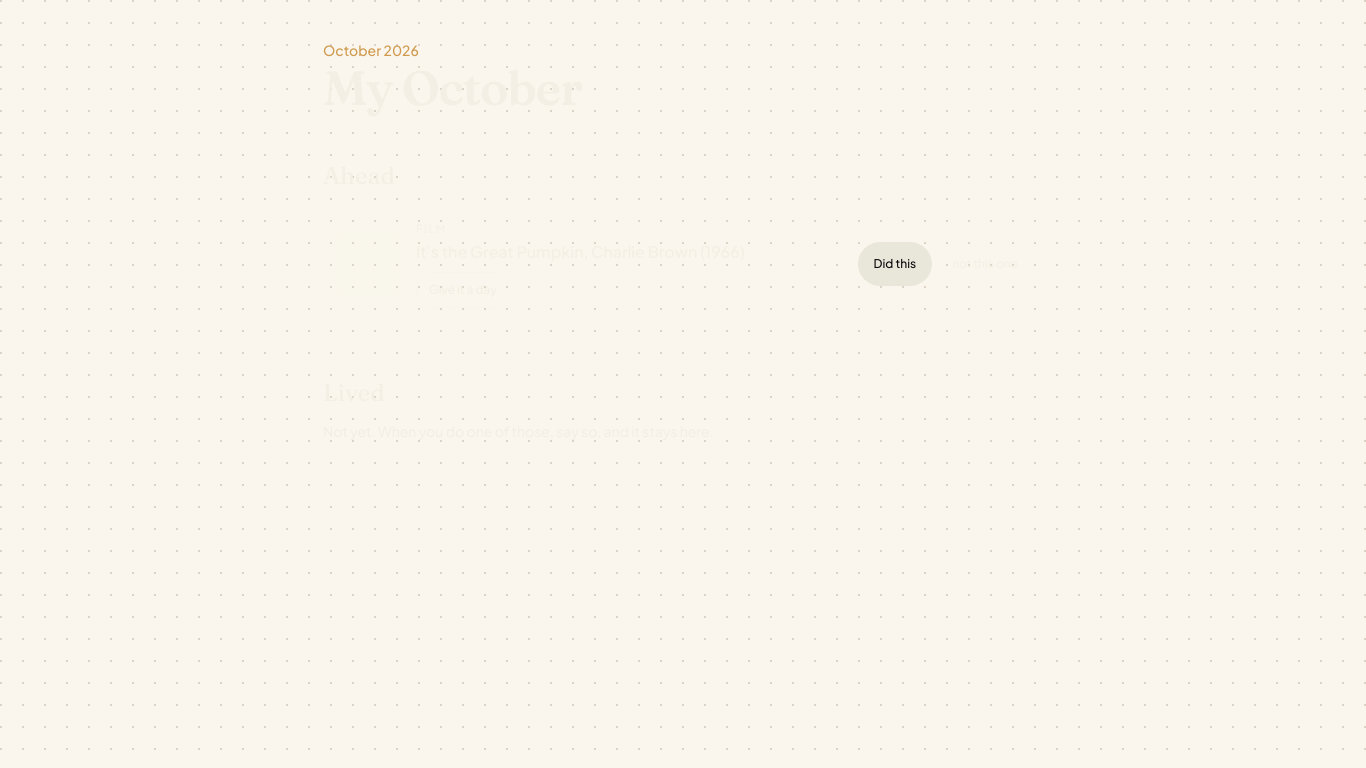
Test: a film in My October › moves to Lived when the person says they watched it
This screenshot has width=1366, height=768.
Click the button with test id "did-this" at (895, 264), box [858,242,932,286]
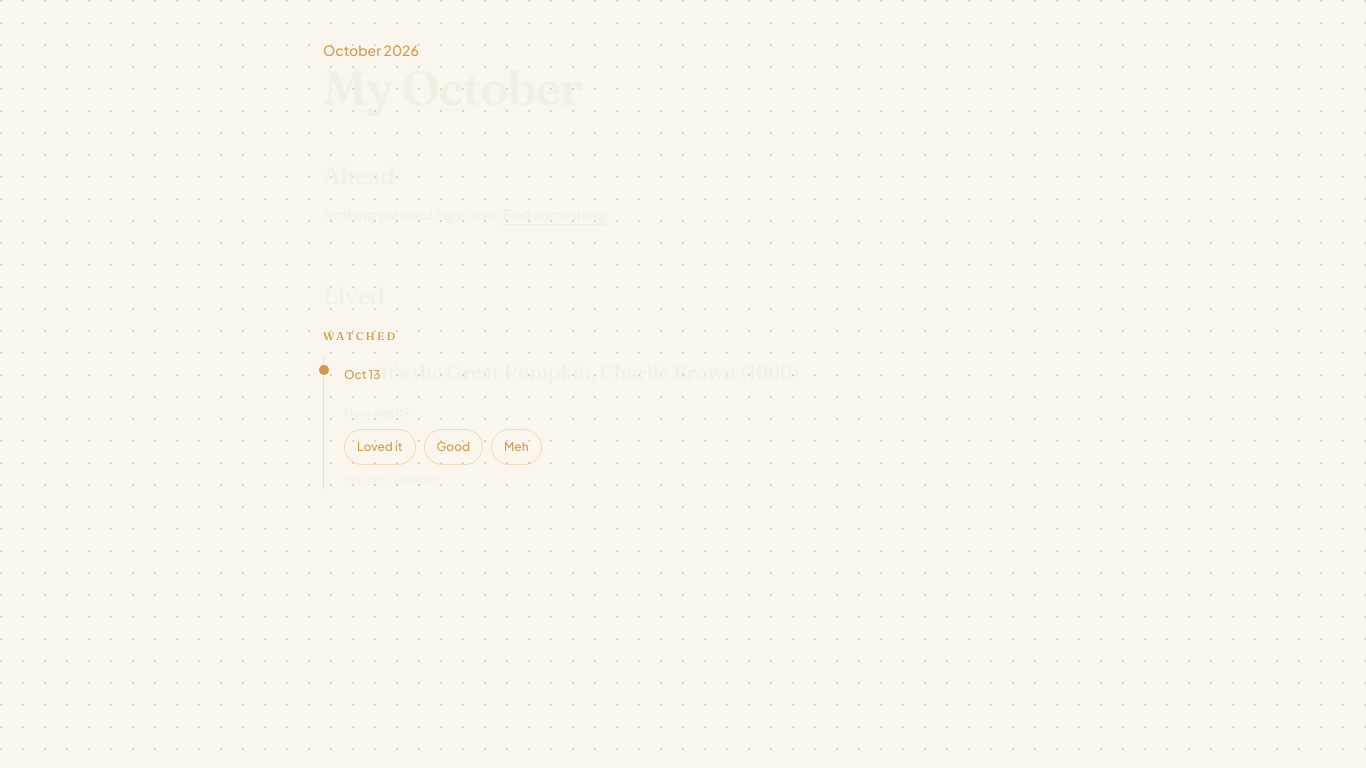
Check: the number of list items with test id "lived-thing" is 1, box [344,356,799,487]
